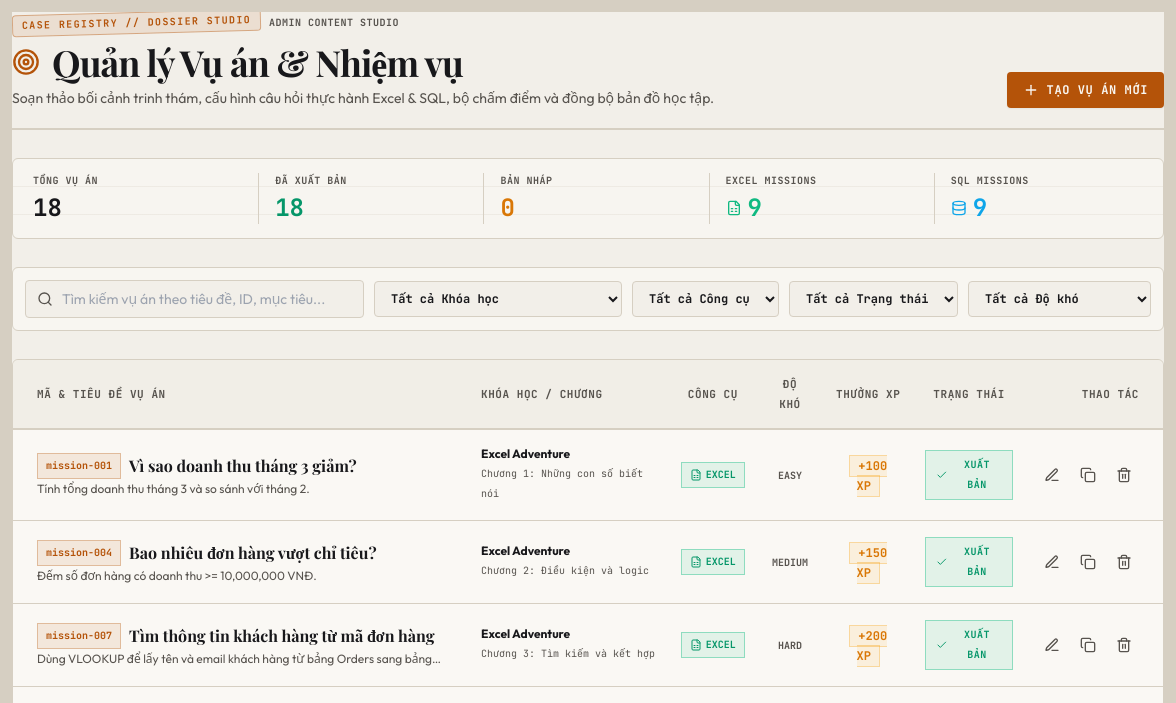
Test: AdminMissionsPage Component Tests › chuyển đổi trạng thái xuất bản (Toggle Publish Status)
expect the text "Vì sao doanh thu tháng 3 giảm?" is shown: met, box [129,454,357,478]
# Click toggle
Step 1. Click the button titled "Bấm để đổi trạng thái Xuất bản / Bản nháp" in the row of "mission-001" → (969, 475), box [925,450,1013,500]
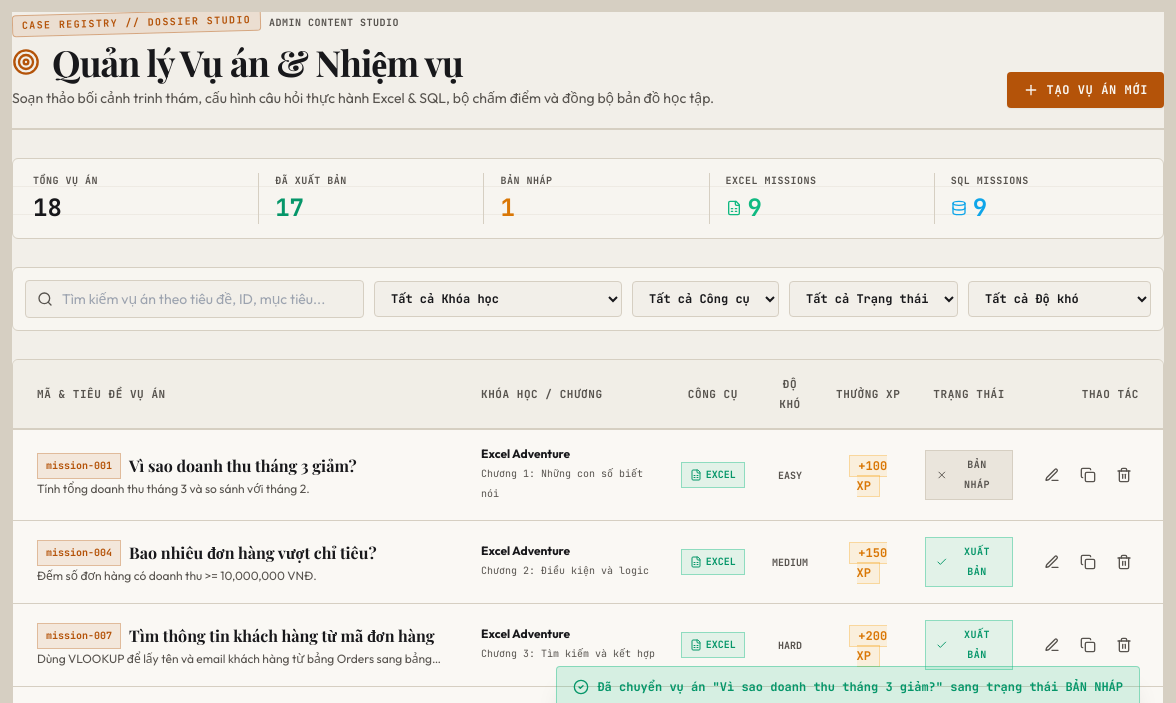
expect the text "Đã chuyển vụ án" is shown: met, box [597,679,1123,695]
